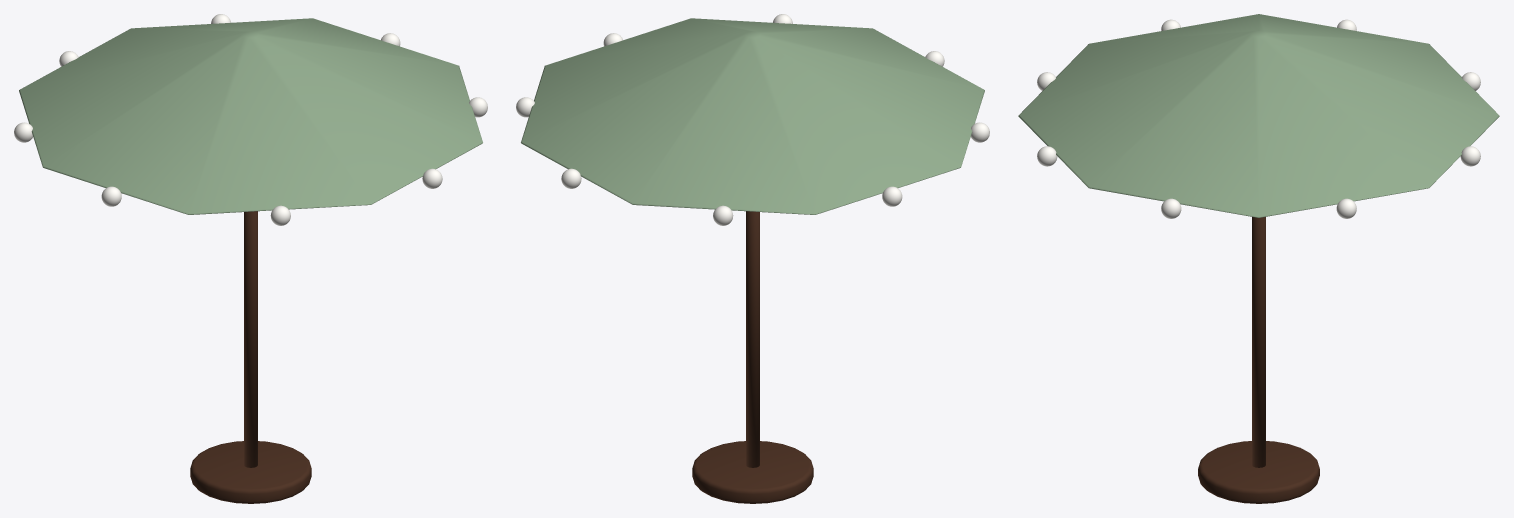
Rendered from parasol_sauge.glb.
The picture shows the model from 3 angles, left to right: view 1: azimuth 30°, elevation 25°; view 2: azimuth 150°, elevation 25°; view 3: azimuth 270°, elevation 25°; orthographic projection.
Parts seen in each view (by area): view 1: toile, pied, mat; view 2: toile, pied, mat; view 3: toile, pied, mat.
Part boxes in pixels (x1,y1,x2,y2): toile: [19, 18, 482, 214]; pied: [190, 441, 311, 503]; mat: [244, 211, 257, 467]; toile: [521, 18, 984, 214]; pied: [692, 441, 813, 503]; mat: [746, 211, 759, 467]; toile: [1018, 14, 1499, 217]; pied: [1198, 441, 1319, 503]; mat: [1252, 217, 1265, 467].
Size of the model in its own units: 2.37 by 2.43 by 2.37.
